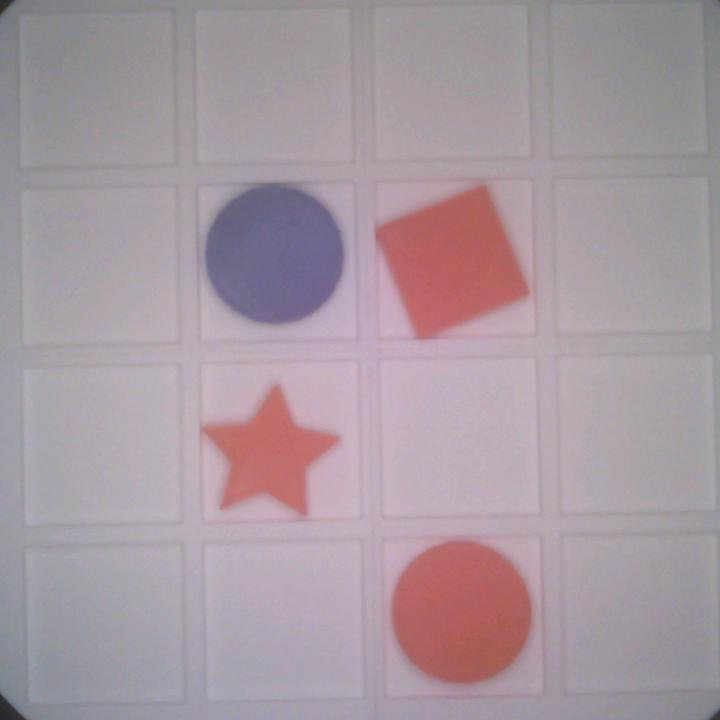Blue circle: (208, 183, 342, 325)
Orange square: (374, 185, 534, 343), (394, 542, 534, 685)
Orange star: (200, 382, 334, 521)
